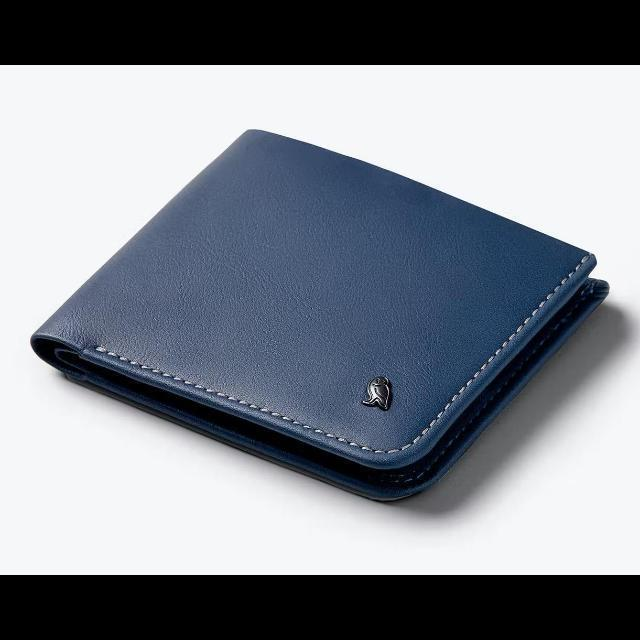wallet: (29, 123, 612, 504)
